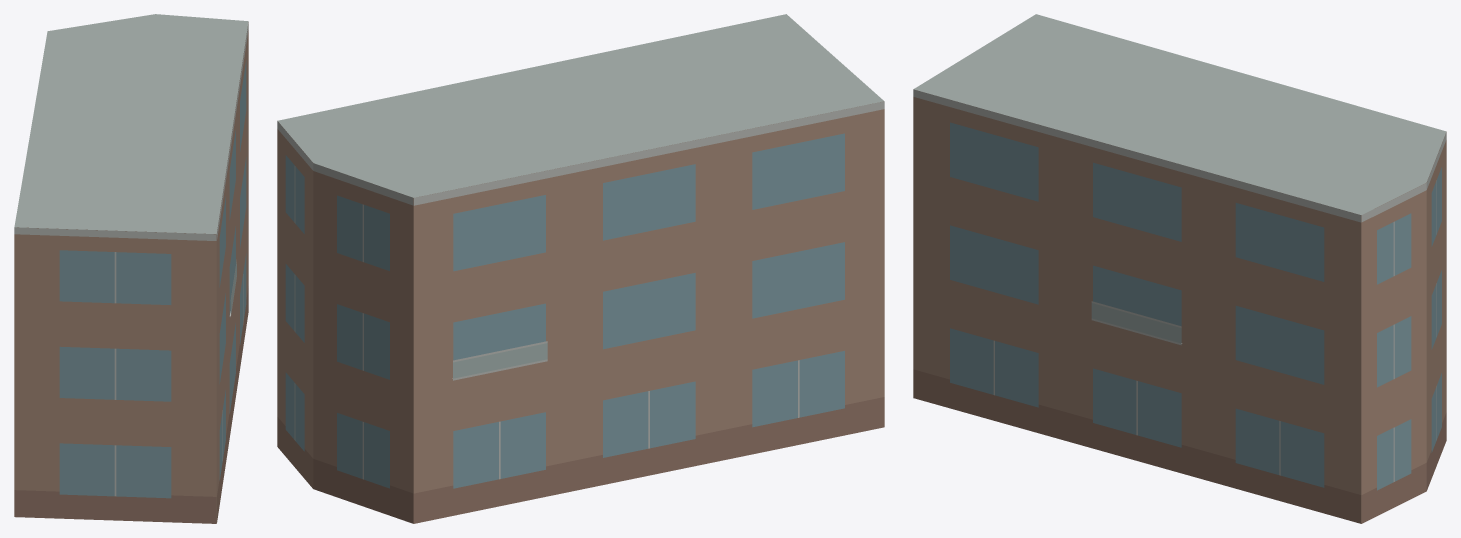
The model's file is survey-upis-32756137.glb.
3 views of the same model, side by side, from view 1: azimuth 30°, elevation 25°; view 2: azimuth 150°, elevation 25°; view 3: azimuth 270°, elevation 25° (orthographic). The views are drawn at different scales.
Parts seen in each view (by area): view 1: survey-upis-32756137.tmp; view 2: survey-upis-32756137.tmp; view 3: survey-upis-32756137.tmp.
Boxes of the visible parts, x1,y1,x2,y2 form: survey-upis-32756137.tmp: (14,14,248,523); survey-upis-32756137.tmp: (277,14,884,523); survey-upis-32756137.tmp: (913,14,1446,523).
Size of the model in its own units: 14.12 by 10.1 by 15.82.
